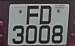0: (24, 24, 40, 46), (38, 24, 52, 46)
3: (11, 25, 27, 46)
8: (51, 23, 65, 46)
D: (39, 4, 55, 27)
F: (24, 4, 42, 26)
